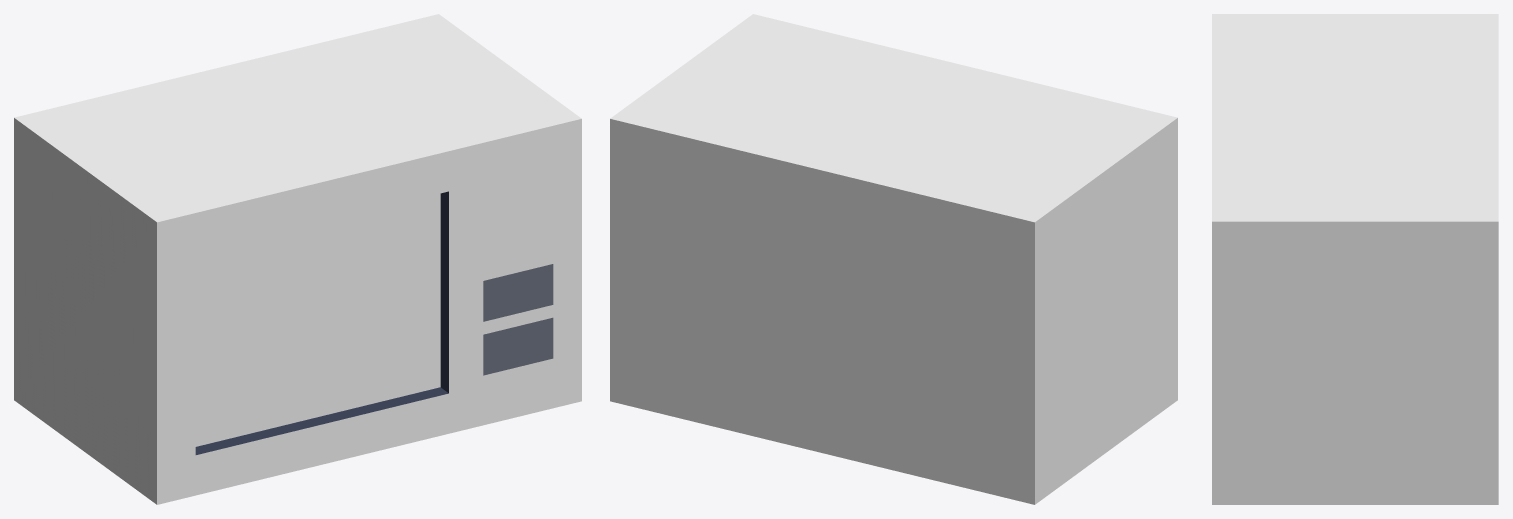
File: Microwave.fbx
The picture shows the model from 3 angles, left to right: view 1: azimuth 30°, elevation 25°; view 2: azimuth 150°, elevation 25°; view 3: azimuth 270°, elevation 25°; orthographic projection.
Parts seen in each view (by area): view 1: Microwave; view 2: Microwave; view 3: Microwave.
Part boxes in pixels (x1=…): Microwave: x1=14, y1=14, x2=581, y2=504; Microwave: x1=610, y1=14, x2=1177, y2=504; Microwave: x1=1212, y1=14, x2=1498, y2=504.
Size of the model in its own units: 0.7861 by 0.4996 by 0.4677.
